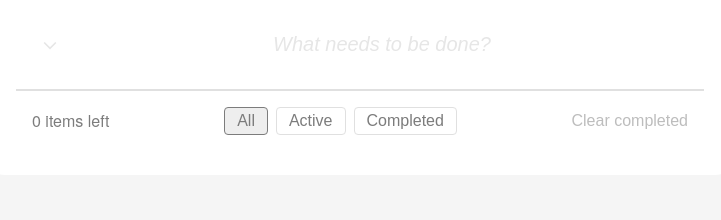
Scenario: ContentBox › добавляет новую заметку через Enter
Step 1. Type "New test note" into the field with placeholder "What needs to be done?" → (382, 44), box [76,16,688,73]
Then press Enter
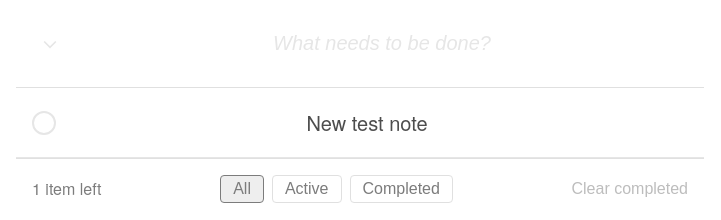
Expected: the text "New test note" is shown, [306,108,428,136]
